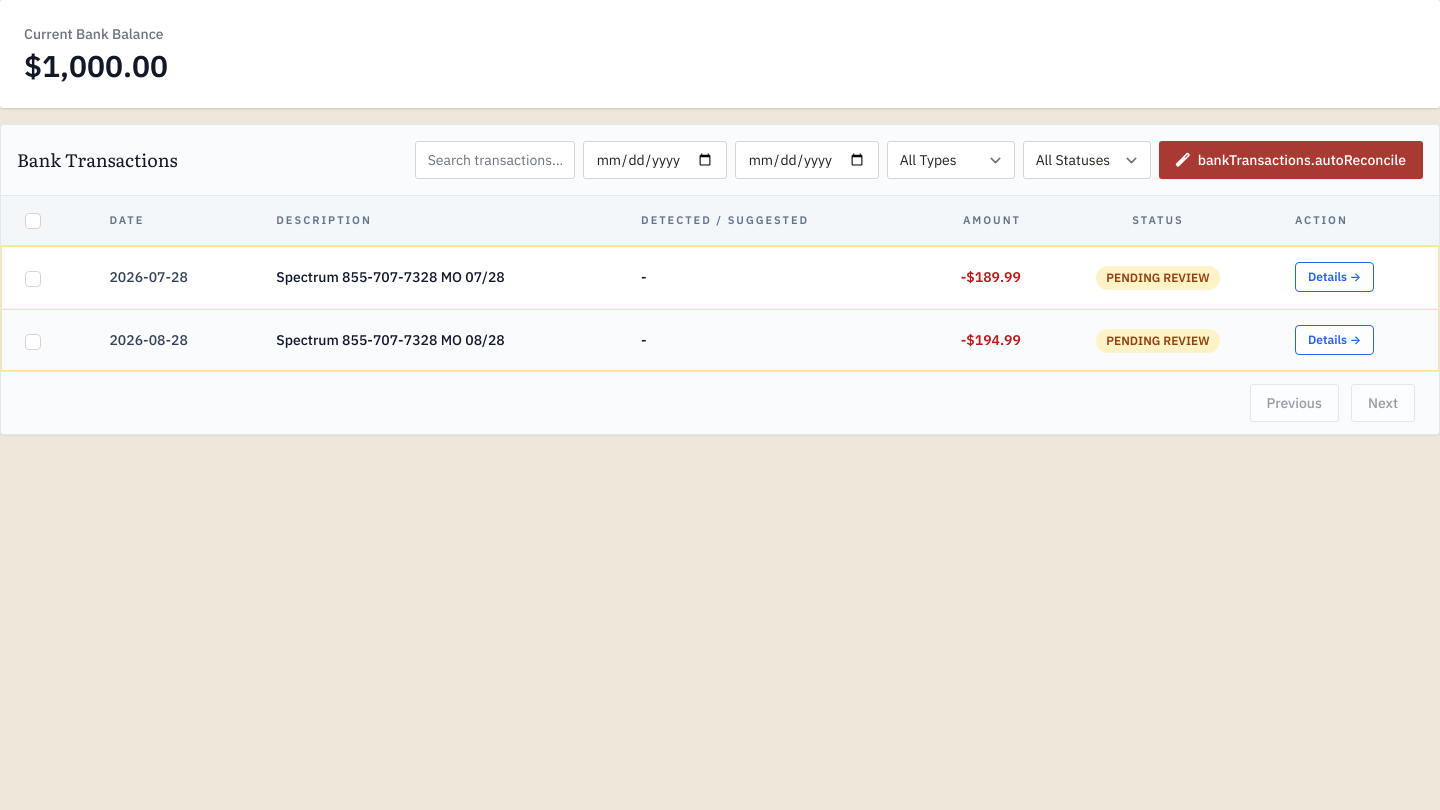
Test case: Bulk expense modal › lists the rows it is about to file
Expected: the text "Spectrum 855-707-7328 MO 07/28" is shown, left=276, top=268, right=505, bottom=286
Click the checkbox next to "2026-07-28": [33, 279] box left=25, top=271, right=41, bottom=287
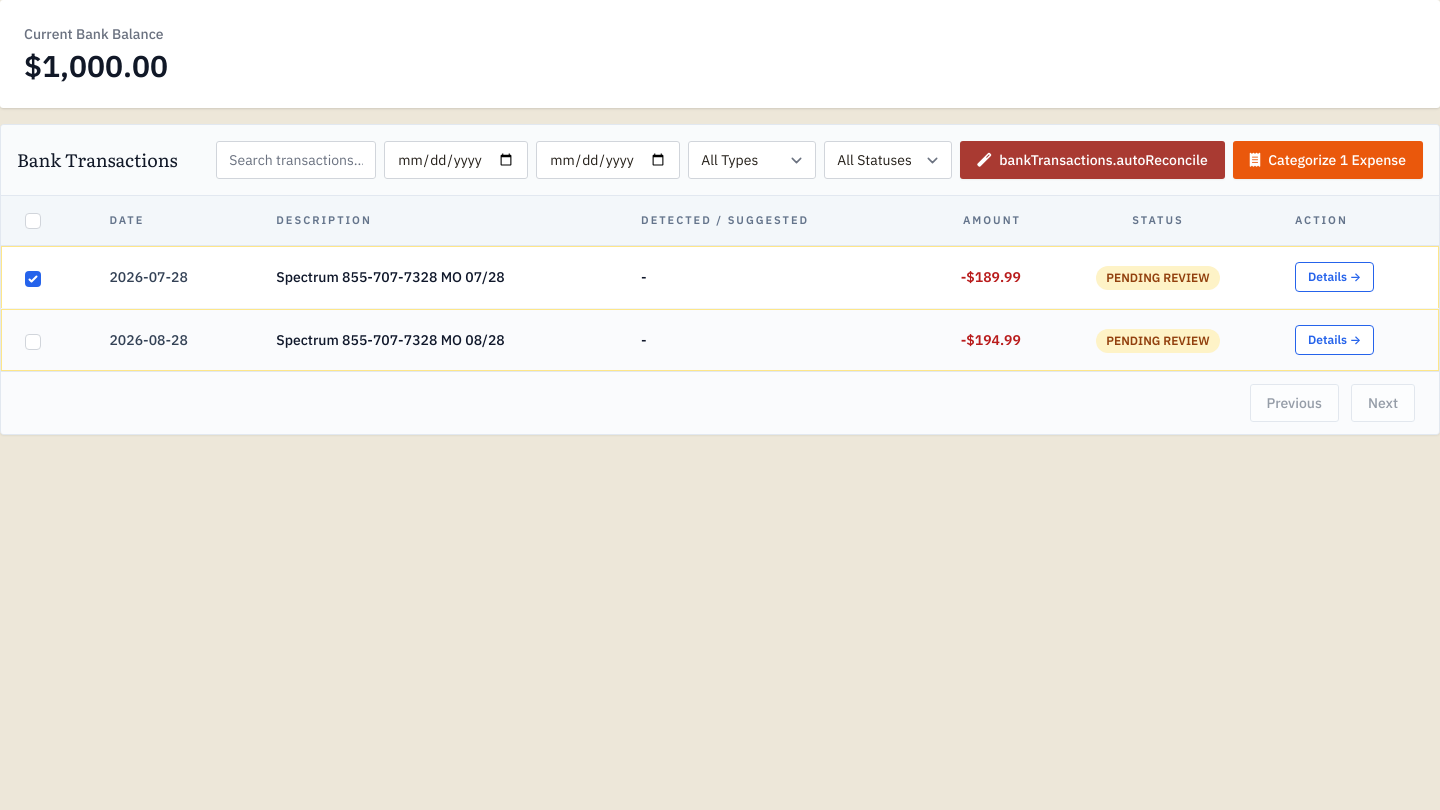
Click the checkbox next to "2026-08-28": [33, 342] box left=25, top=334, right=41, bottom=350
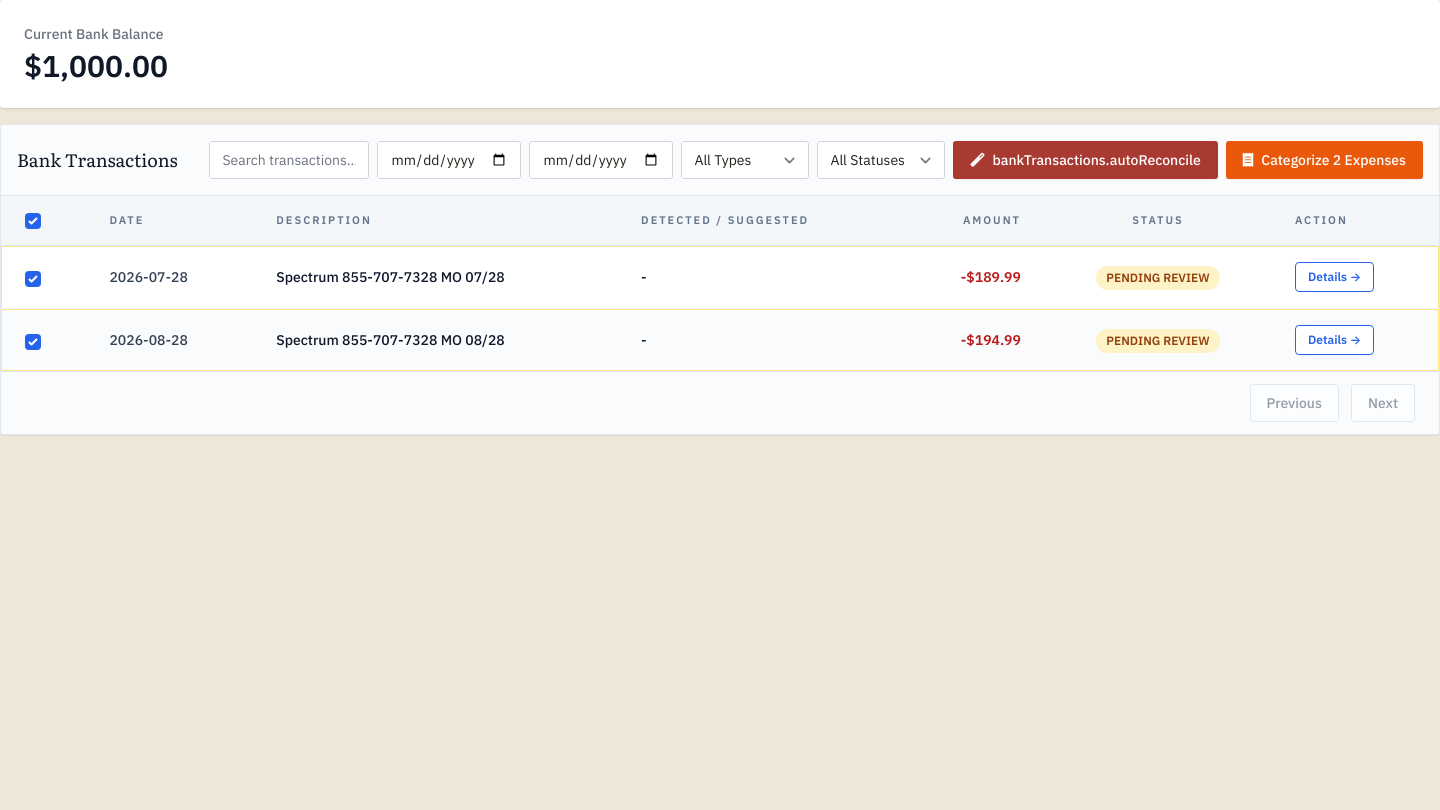
Click the button "Categorize 2 Expenses": [1324, 160] box left=1226, top=141, right=1423, bottom=179
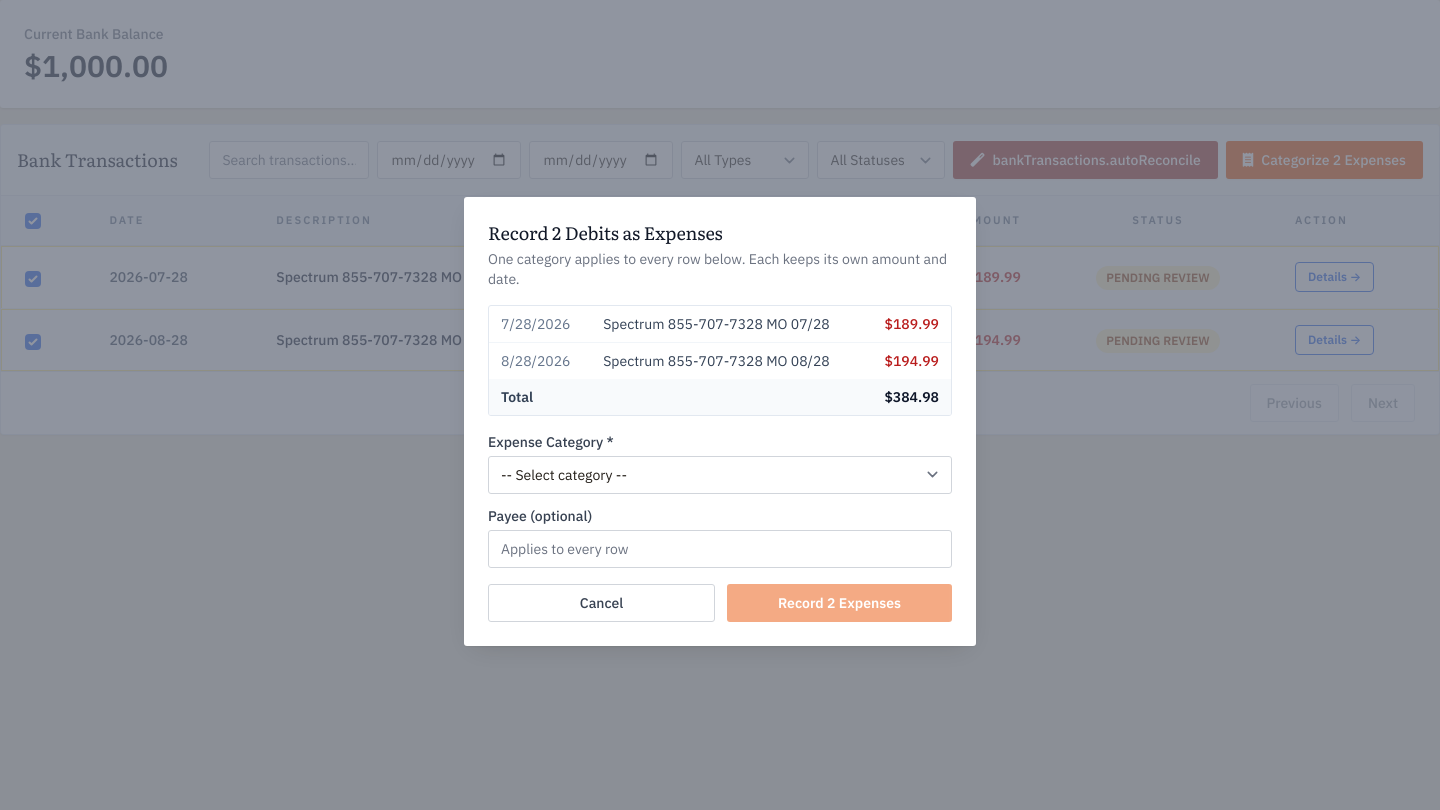
Result: the text "Spectrum 855-707-7328 MO 07/28" is shown at left=591, top=306, right=865, bottom=342
Result: the text "Spectrum 855-707-7328 MO 08/28" is shown at left=591, top=342, right=865, bottom=378
